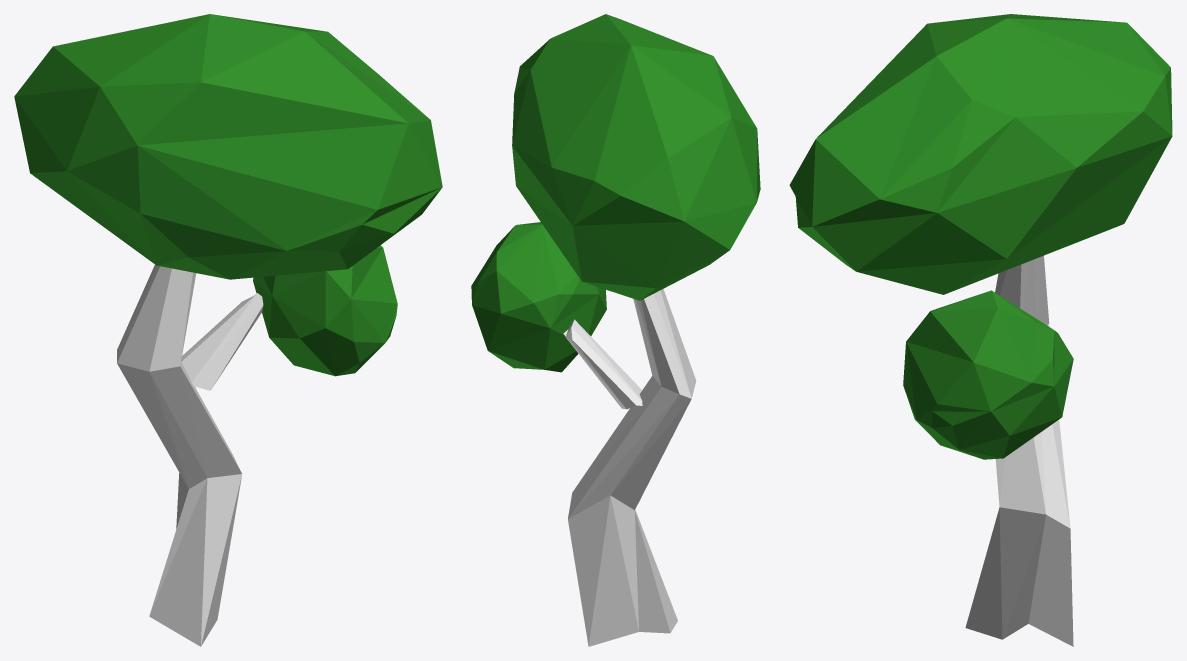
Rendered from tree1.FBX.
3 views of the same model, side by side, from view 1: azimuth 30°, elevation 25°; view 2: azimuth 150°, elevation 25°; view 3: azimuth 270°, elevation 25° (orthographic). The views are drawn at different scales.
Parts seen in each view (by area): view 1: Box019, Cylinder007, Box027, Cylinder008; view 2: Box019, Cylinder007, Box027, Cylinder008; view 3: Box019, Box027, Cylinder007.
Part boxes in pixels (x1=…): Box019: x1=14, y1=14, x2=442, y2=279; Cylinder007: x1=117, y1=264, x2=242, y2=646; Box027: x1=253, y1=245, x2=397, y2=376; Cylinder008: x1=181, y1=293, x2=263, y2=390; Box019: x1=512, y1=14, x2=760, y2=300; Cylinder007: x1=568, y1=289, x2=696, y2=646; Box027: x1=471, y1=222, x2=606, y2=372; Cylinder008: x1=563, y1=319, x2=642, y2=409; Box019: x1=789, y1=14, x2=1172, y2=294; Box027: x1=903, y1=290, x2=1073, y2=459; Cylinder007: x1=965, y1=255, x2=1073, y2=646.
Bounding box in the file's own units: 56.45 × 108 × 59.93.
